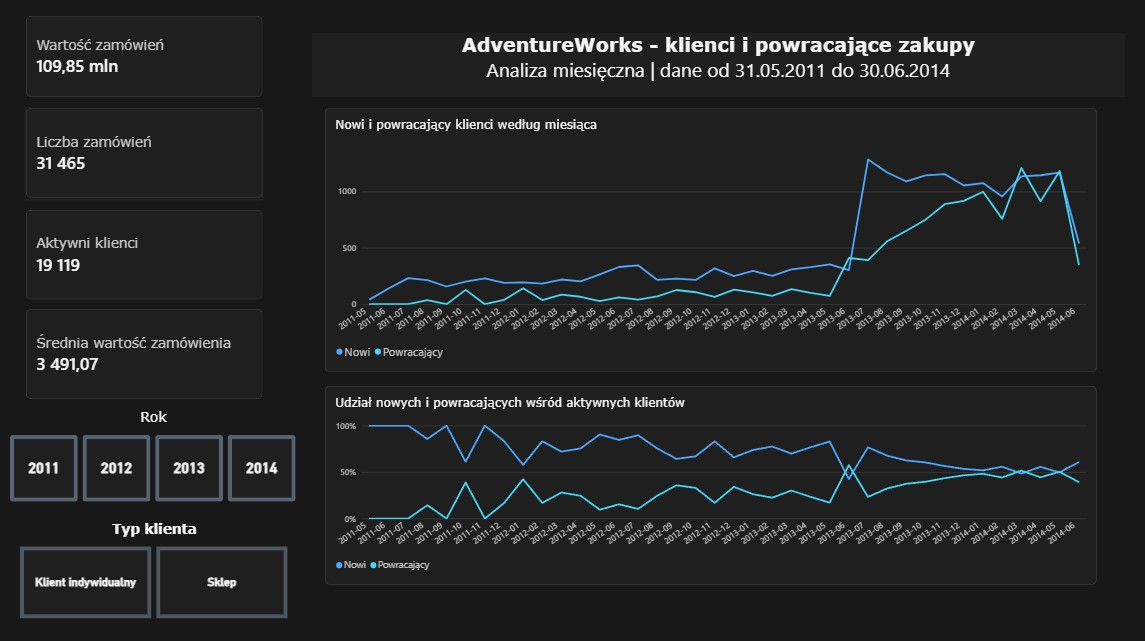

What the dashboard file says about the page in this screenshot:
{"tool":"powerbi","page":{"name":"Klienci i zamówienia","canvas":[1920,1080],"ordinal":0},"visuals":[{"type":"advancedSlicerVisual","fields":{"Values":["Kalendarz.ROK"]},"box":[23.9,687.3,478.9,156.3],"z":0},{"type":"cardVisual","fields":{"Data":["_Miary.Wartość zamówień"]},"box":[50.7,33.8,394.4,135.2],"z":1000},{"type":"cardVisual","fields":{"Data":["_Miary.Liczba zamówień"]},"box":[50.7,185.9,394.4,150.7],"z":2000},{"type":"cardVisual","fields":{"Data":["_Miary.Aktywni klienci"]},"box":[50.7,356.3,394.4,149.3],"z":3000},{"type":"cardVisual","fields":{"Data":["_Miary.Średnia wartość zamówienia"]},"box":[50.7,521.1,394.4,150.7],"z":4000},{"type":"lineChart","title":"Nowi i powracający klienci według miesiąca","fields":{"Category":["Kalendarz.Rok miesiąc"],"Y":["_Miary.Nowi klienci miesięcznie","_Miary.Powracający klienci miesiecznie"]},"box":[548.3,186.2,1286.2,439.7],"z":5000},{"type":"lineChart","title":"Udział nowych i powracających wśród aktywnych klientów","fields":{"Category":["Kalendarz.Rok miesiąc"],"Y":["_Miary.Udział nowych klientów","_Miary.Udział powracających klientów"]},"box":[548.3,650,1285.9,331],"z":6000},{"type":"textbox","box":[526.7,61.7,1355,106.7],"z":7000},{"type":"advancedSlicerVisual","title":"Typ klienta","fields":{"Values":["Klienci.typ_klienta"]},"box":[39.4,873.2,447.9,164.8],"z":8000}]}

Visuals, with their boxes in screenshot pixels (x1, y1, x2, y2), scaled from the page's 1920x1080 canvas onto the 1145x641 screenshot:
advancedSlicerVisual - Kalendarz.ROK: (14, 408, 300, 501)
cardVisual - _Miary.Wartość zamówień: (30, 20, 265, 100)
cardVisual - _Miary.Liczba zamówień: (30, 110, 265, 200)
cardVisual - _Miary.Aktywni klienci: (30, 211, 265, 300)
cardVisual - _Miary.Średnia wartość zamówienia: (30, 309, 265, 399)
"Nowi i powracający klienci według miesiąca" lineChart: (327, 111, 1094, 371)
"Udział nowych i powracających wśród aktywnych klientów" lineChart: (327, 386, 1094, 582)
textbox: (314, 37, 1122, 100)
"Typ klienta" advancedSlicerVisual: (23, 518, 291, 616)
